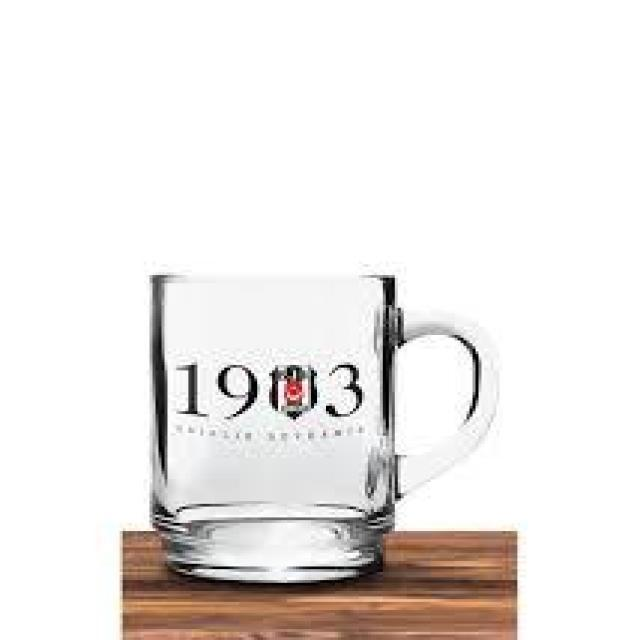glass: (143, 268, 500, 584)
